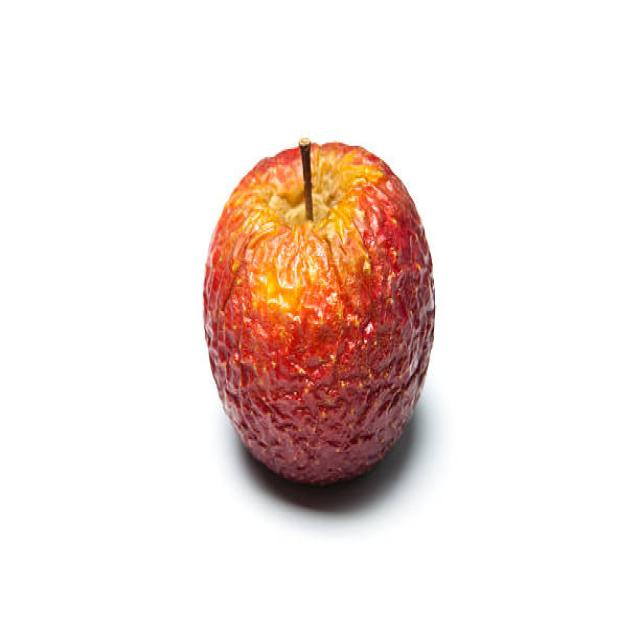overripe: (199, 133, 439, 488)
